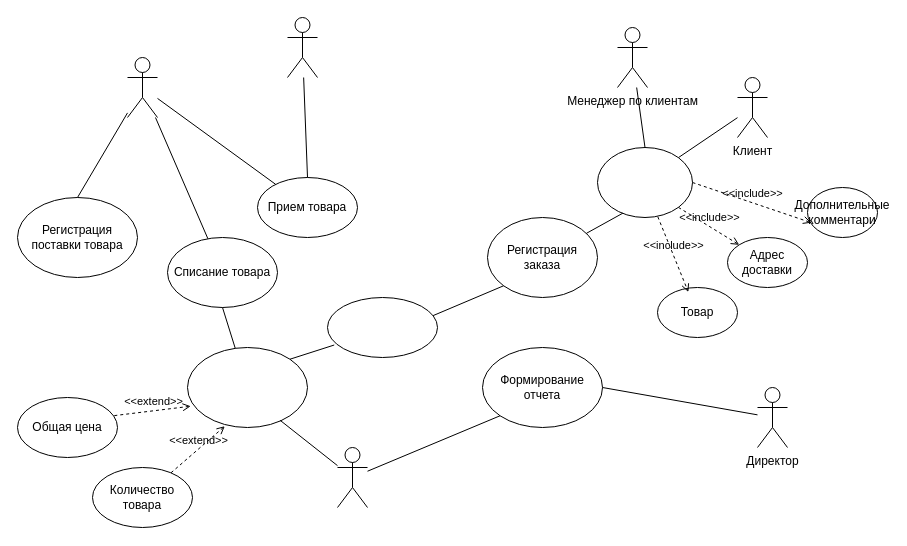
The diagram is 907 pixels wide and 546 high, and some of its shapes have lost their labels. The box of each missing label's shape, as (x1, y1, x2, y2) in pixels:
Бухгатлерия: (336, 446, 368, 508)
Менеджер склада: (126, 56, 158, 118)
Обработка заказа клиента: (596, 146, 692, 218)
Покупка и доставка товара: (326, 296, 438, 358)
Сотрудники: (286, 16, 318, 78)
Учет остатка товаров: (186, 346, 308, 428)
